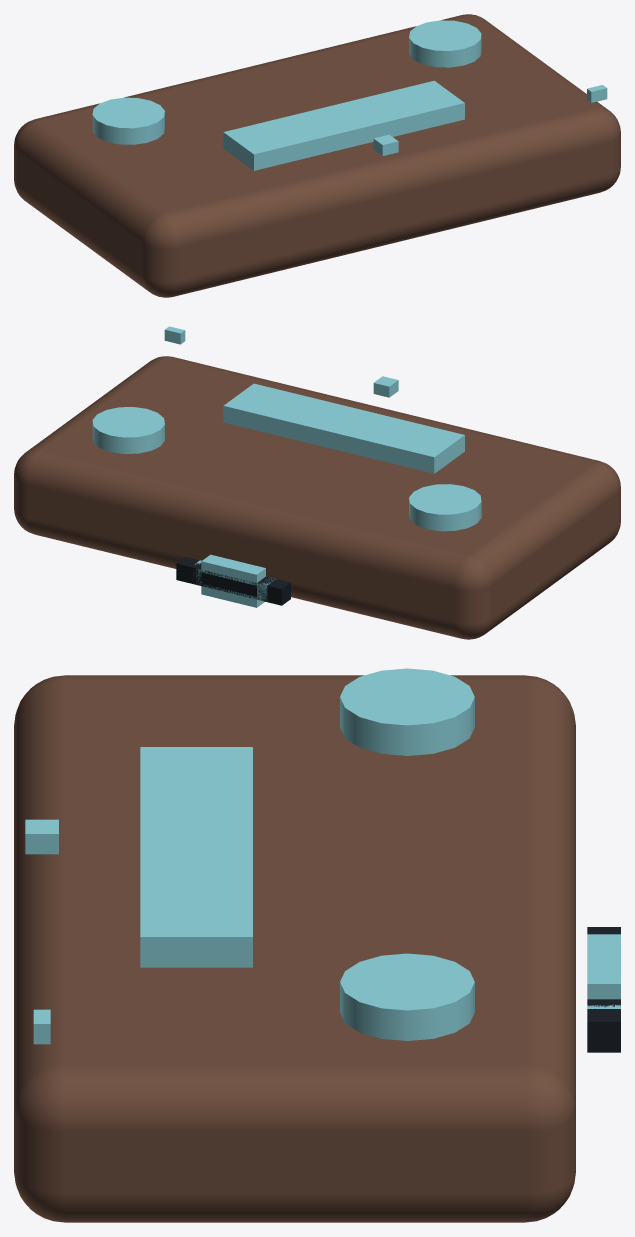
The picture shows the model from 3 angles, top to bottom: view 1: azimuth 30°, elevation 25°; view 2: azimuth 150°, elevation 25°; view 3: azimuth 270°, elevation 25°; orthographic projection. The views are drawn at different scales.
Parts seen in each view (by area): view 1: audio-body, display-surface, dial-0.12, dial--0.12, audio-accent; view 2: audio-body, display-surface, dial--0.12, dial-0.12, usb-port-back, usb-frame-top, usb-frame-bottom, audio-accent; view 3: audio-body, display-surface, dial--0.12, dial-0.12, usb-frame-top, usb-port-back, audio-accent.
Part boxes in pixels (x1,y1,x2,y2): audio-body: (14,14,620,297); display-surface: (223,80,464,170); dial-0.12: (409,20,481,67); dial--0.12: (92,97,164,144); audio-accent: (373,134,398,155); audio-body: (14,356,620,639); display-surface: (223,383,464,473); dial--0.12: (409,484,481,531); dial-0.12: (92,407,164,453); usb-port-back: (176,557,290,605); usb-frame-top: (201,554,265,585); usb-frame-bottom: (201,585,264,607); audio-accent: (373,376,398,397); audio-body: (14,675,575,1222); display-surface: (140,747,252,967); dial--0.12: (340,668,474,755); dial-0.12: (340,953,474,1040); usb-frame-top: (587,934,620,999); usb-port-back: (587,927,620,1052); audio-accent: (25,819,58,854).
Bounding box in the file's own units: 0.36 × 0.078 × 0.216.
